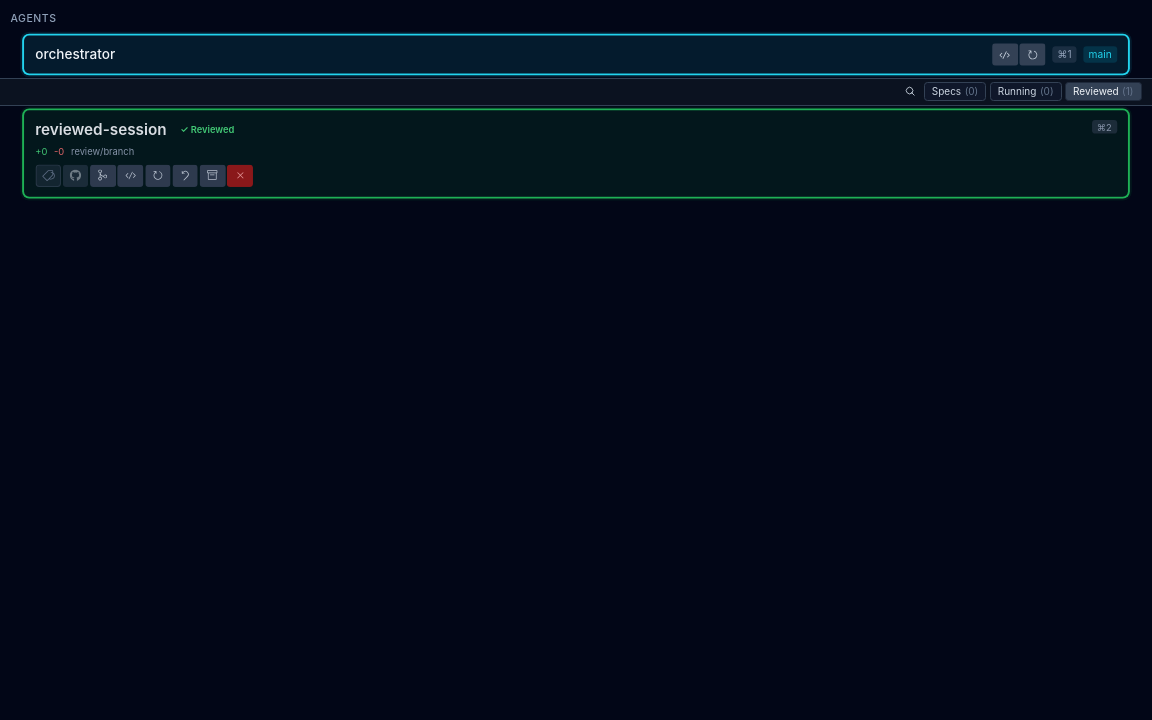
Scenario: Sidebar keyboard navigation basic › allows converting reviewed sessions to specs with Cmd+S
expect the text "reviewed-session" is shown: met, box [35,120,167,139]
Step 1. Click the button "reviewed-session" → {"x": 101, "y": 129}, box [24,110,1128,196]
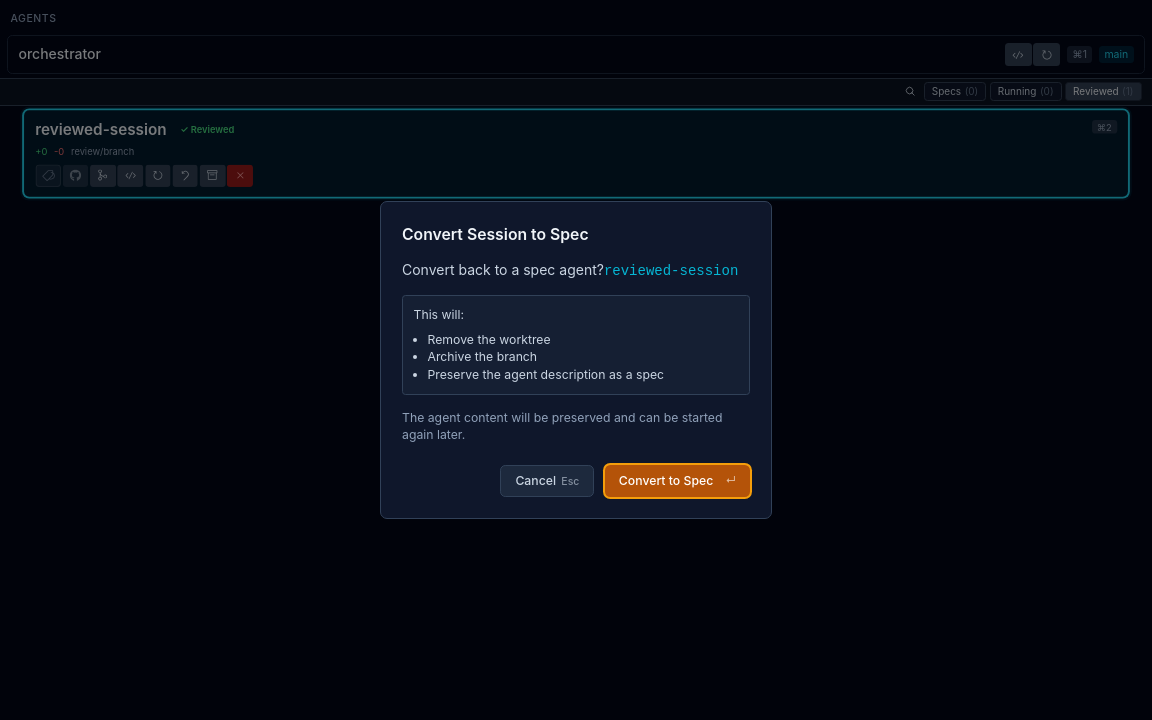
expect the text "Convert to Spec" is shown: met, box [619,473,713,489]
